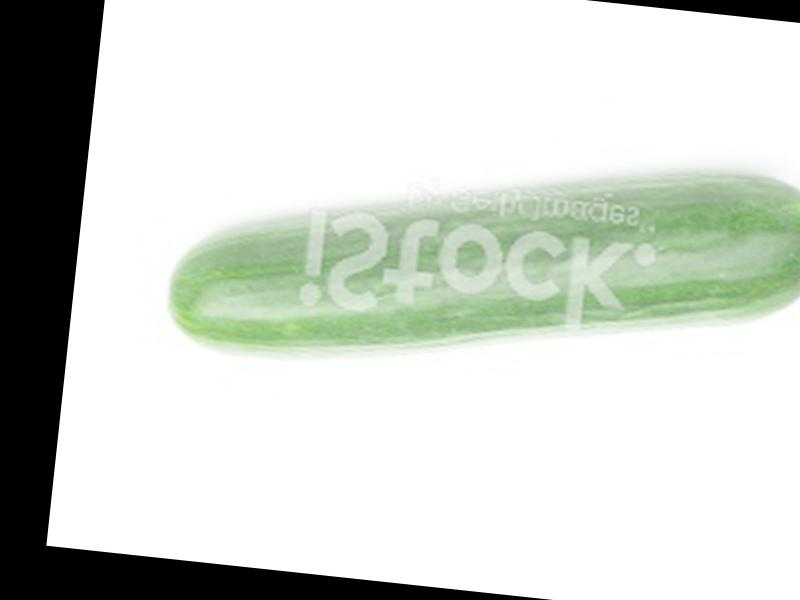Cucumber: (160, 116, 800, 414)
